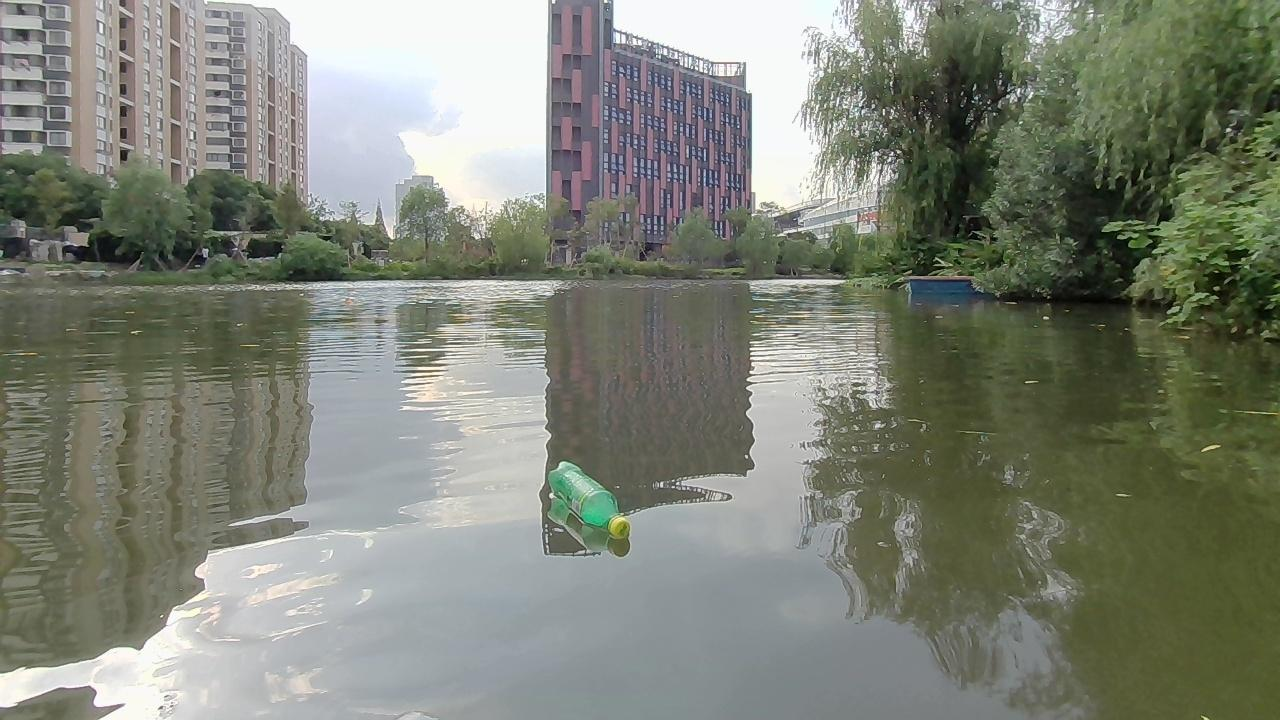bottle: (546, 460, 632, 541), (336, 292, 359, 307)
